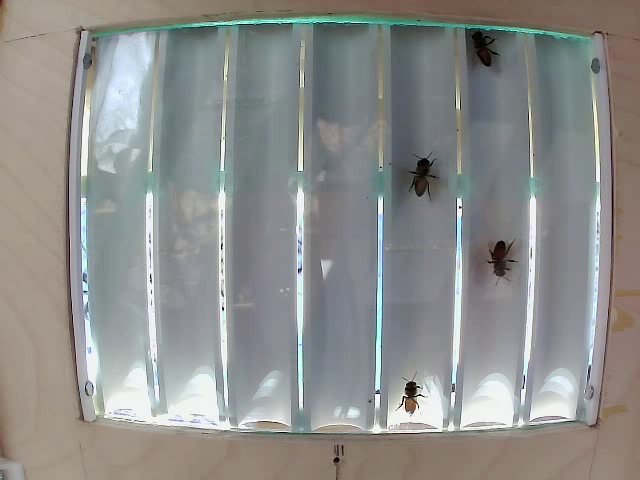bee: (397, 147, 447, 213), (390, 366, 437, 428), (475, 225, 515, 280), (461, 24, 506, 69)
